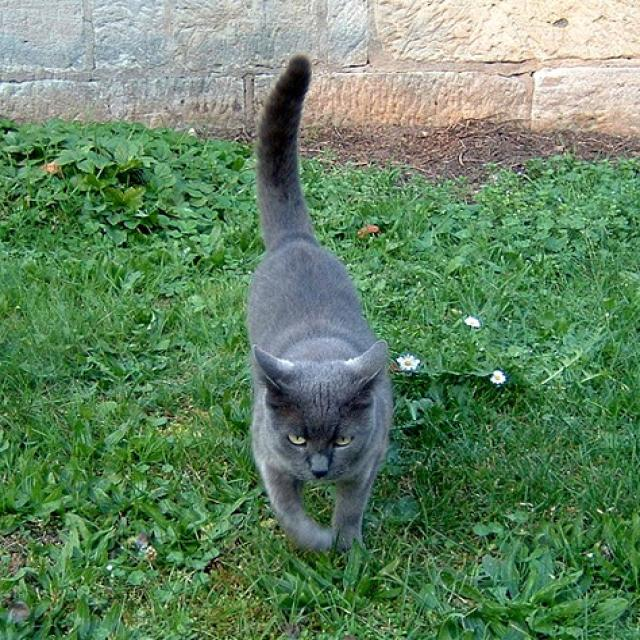left eye: (331, 433, 352, 448)
